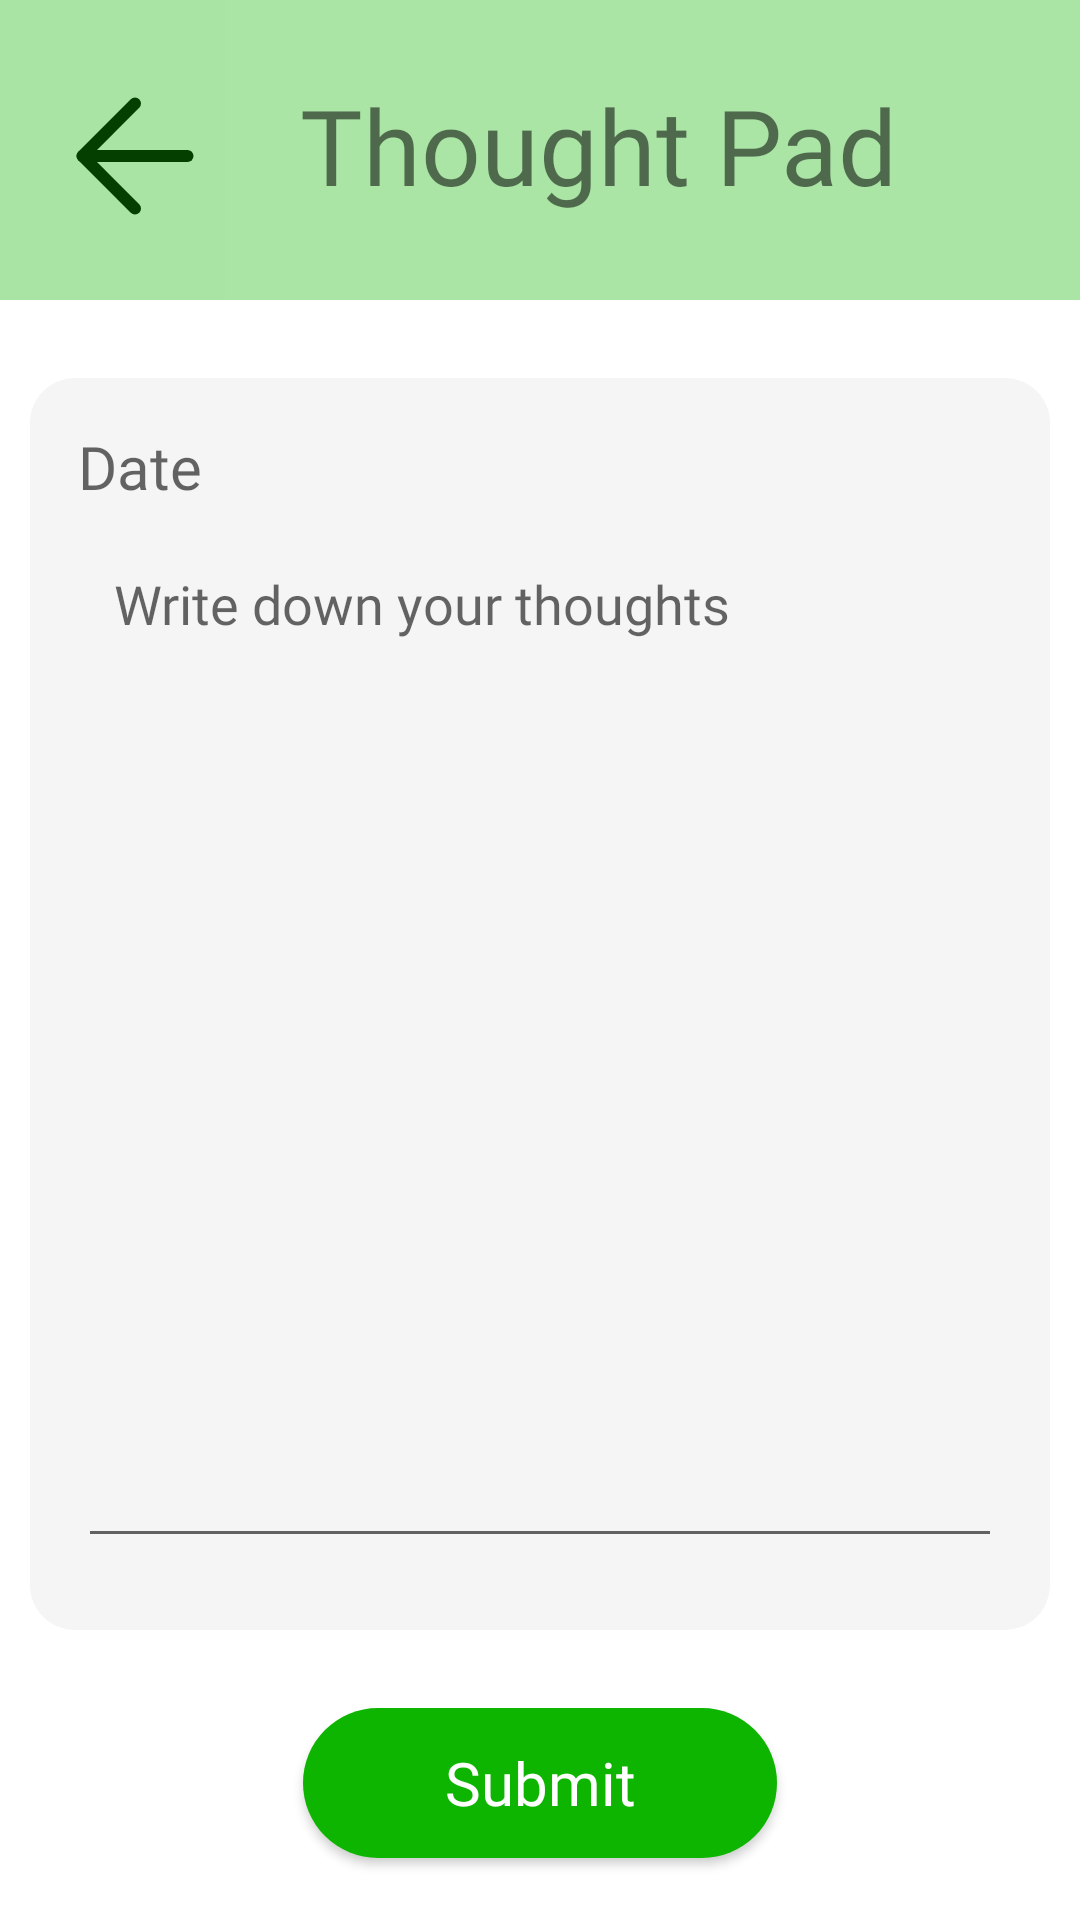

Where icons sit on this 1080w x 1920h app screen, as (x1, y1, x2, y2):
arrow left: (76, 97, 194, 215)
